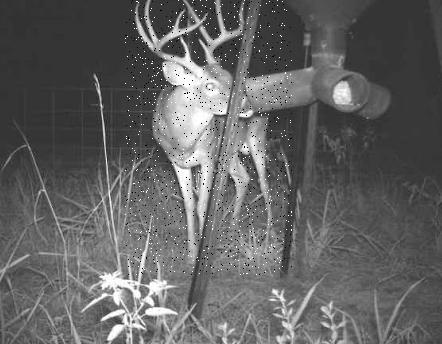Deer: (125, 0, 292, 275)
